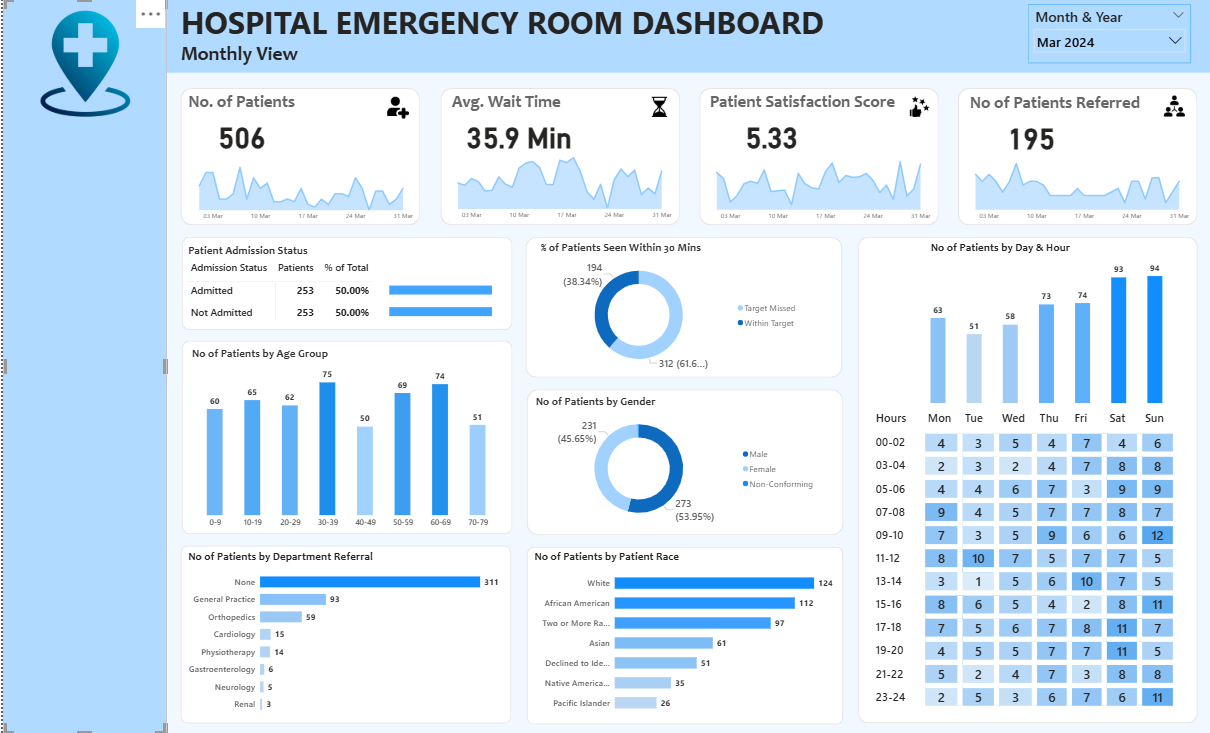

What the dashboard file says about the page in this screenshot:
{"tool":"powerbi","page":{"name":"Monthly View","canvas":[2300,1400],"ordinal":0},"visuals":[{"type":"shape","box":[338.5,171.3,455.5,261.2],"z":0},{"type":"shape","box":[1324.7,171.3,455.5,261.2],"z":1000},{"type":"shape","box":[0,0,311.3,1399.9],"z":2000},{"type":"shape","box":[831.6,171.3,455.5,261.2],"z":3000},{"type":"card","fields":{"Values":["Hospital ER_Hospital ER.No of Patients"]},"box":[374,225.7,160.9,66.9],"z":4000},{"type":"card","fields":{"Values":["Hospital ER_Hospital ER.Avg Wait Time"]},"box":[869.2,225.7,223.6,66.9],"z":5000},{"type":"card","fields":{"Values":["Avg(Hospital ER_Hospital ER.Patient Satisfaction Score)"]},"box":[1381.4,225.6,160.9,66.9],"z":6000},{"type":"shape","box":[1817.8,171.3,455.5,261.2],"z":7000},{"type":"card","fields":{"Values":["Hospital ER_Hospital ER.Measure"]},"box":[1876.7,227.6,160.9,66.9],"z":8000},{"type":"shape","box":[311.3,0,1989.1,142.1],"z":9000},{"type":"slicer","fields":{"Values":["Calendar Table.Month & Year"]},"box":[1950.8,12.2,309.8,112.1],"z":10000},{"type":"textbox","box":[339.2,171.3,227.8,56.5],"z":11000},{"type":"textbox","box":[841.3,171.3,231.1,56.5],"z":12000},{"type":"textbox","box":[1331.2,172,377.5,55.8],"z":13000},{"type":"textbox","box":[1828.2,173.4,344.8,56.4],"z":14000},{"type":"areaChart","fields":{"Category":["Calendar Table.Date.Variation.Date Hierarchy.Year","Calendar Table.Date.Variation.Date Hierarchy.Quarter","Calendar Table.Date.Variation.Date Hierarchy.Month","Calendar Table.Date.Variation.Date Hierarchy.Day"],"Y":["Hospital ER_Hospital ER.No of Patients"]},"box":[348.4,288.1,435.5,145.2],"z":15000},{"type":"areaChart","fields":{"Category":["Calendar Table.Date.Variation.Date Hierarchy.Year","Calendar Table.Date.Variation.Date Hierarchy.Quarter","Calendar Table.Date.Variation.Date Hierarchy.Month","Calendar Table.Date.Variation.Date Hierarchy.Day"],"Y":["Avg(Hospital ER_Hospital ER.Patient Waittime)"]},"box":[842.1,285.9,435.5,145.2],"z":16000},{"type":"areaChart","fields":{"Category":["Calendar Table.Date.Variation.Date Hierarchy.Year","Calendar Table.Date.Variation.Date Hierarchy.Quarter","Calendar Table.Date.Variation.Date Hierarchy.Month","Calendar Table.Date.Variation.Date Hierarchy.Day"],"Y":["Avg(Hospital ER_Hospital ER.Patient Satisfaction Score)"]},"box":[1333.4,290.4,435.5,142.9],"z":17000},{"type":"areaChart","fields":{"Category":["Calendar Table.Date.Variation.Date Hierarchy.Year","Calendar Table.Date.Variation.Date Hierarchy.Quarter","Calendar Table.Date.Variation.Date Hierarchy.Month","Calendar Table.Date.Variation.Date Hierarchy.Day"],"Y":["Hospital ER_Hospital ER.Measure"]},"box":[1827.1,288.1,435.5,145.2],"z":18000},{"type":"textbox","box":[331.7,0,1281,88.9],"z":19000},{"type":"image","box":[1222.3,183.9,52.2,48.1],"z":20000},{"type":"image","box":[724.8,183.1,52.8,51.2],"z":21000},{"type":"image","box":[2198,181.8,62.7,50],"z":22000},{"type":"image","box":[1713.3,179.7,58.5,52.2],"z":23000},{"type":"shape","box":[338.9,455,629.1,177.3],"z":24000},{"type":"shape","box":[994.7,455,602.5,268.3],"z":25000},{"type":"shape","box":[1626.9,455,646.4,925.6],"z":26000},{"type":"shape","box":[996.2,743.7,602.5,277.7],"z":27000},{"type":"donutChart","title":"% of Patients Seen Within 30 Mins","fields":{"Y":["Hospital ER_Hospital ER.No of Patients"],"Category":["Hospital ER_Hospital ER.Waittime Status"]},"box":[1016.6,461,504.4,257.6],"z":28000},{"type":"donutChart","title":"No of Patients by Gender","fields":{"Y":["Hospital ER_Hospital ER.No of Patients"],"Category":["Hospital ER_Hospital ER.Full Gender"]},"box":[1007.2,753.1,547.5,257.3],"z":29000},{"type":"shape","box":[338.9,652.7,629.1,368.7],"z":30000},{"type":"pivotTable","title":"Patient Admission Status","fields":{"Rows":["Hospital ER_Hospital ER.Admission Status"],"Values":["Hospital ER_Hospital ER.No of Patients1","Hospital ER_Hospital ER.No of Patients"]},"box":[347.9,465.5,610,158.3],"z":31000},{"type":"barChart","fields":{"Category":["Hospital ER_Hospital ER.Admission Status"],"Y":["Hospital ER_Hospital ER.No of Patients"]},"box":[729.5,514.6,241.6,120.8],"z":32000},{"type":"clusteredColumnChart","fields":{"Category":["Hospital ER_Hospital ER.Age Group"],"Y":["Hospital ER_Hospital ER.No of Patients"]},"box":[354.6,662.7,599.3,354.6],"z":33000},{"type":"shape","box":[337.3,1041.7,629.1,338.9],"z":34000},{"type":"clusteredBarChart","fields":{"Category":["Hospital ER_Hospital ER.Department Referral"],"Y":["Hospital ER_Hospital ER.No of Patients"]},"box":[348.3,1049.6,602.5,324.8],"z":35000},{"type":"shape","box":[996.5,1043,602.2,338.4],"z":36000},{"type":"clusteredBarChart","fields":{"Y":["Hospital ER_Hospital ER.No of Patients"],"Category":["Hospital ER_Hospital ER.Patient Race"]},"box":[1005.8,1049.2,578.9,324.4],"z":37000},{"type":"pivotTable","fields":{"Columns":["Calendar Table.Day Name"],"Rows":["Hospital ER_Hospital ER.Waittime Interval"],"Values":["Hospital ER_Hospital ER.No of Patients"]},"box":[1649.4,776.5,606.9,583.6],"z":38000},{"type":"clusteredColumnChart","title":"No of Patients by Day & Hour","fields":{"Category":["Calendar Table.Day Name"],"Y":["Hospital ER_Hospital ER.No of Patients"]},"box":[1758.7,461.3,453.4,315.3],"z":39000},{"type":"textbox","box":[333.7,79.2,411.3,59],"z":40000},{"type":"textbox","box":[24.2,409.1,99.9,48.3],"z":42000},{"type":"textbox","box":[77.3,1261.1,146.6,37],"z":43000},{"type":"image","box":[46.9,17.9,218.9,212.2],"z":50000}]}

Visuals, with their boxes on the page's 2300x1400 design canvas (x1, y1, x2, y2). These are canvas units, not pixel positions in the 1210x733 screenshot, which may show the page scaled, cropped or inside an application window:
shape: (left=338, top=171, right=794, bottom=432)
shape: (left=1325, top=171, right=1780, bottom=432)
shape: (left=0, top=0, right=311, bottom=1400)
shape: (left=832, top=171, right=1287, bottom=432)
card - Hospital ER_Hospital ER.No of Patients: (left=374, top=226, right=535, bottom=293)
card - Hospital ER_Hospital ER.Avg Wait Time: (left=869, top=226, right=1093, bottom=293)
card - Avg(Hospital ER_Hospital ER.Patient Satisfaction Score): (left=1381, top=226, right=1542, bottom=292)
shape: (left=1818, top=171, right=2273, bottom=432)
card - Hospital ER_Hospital ER.Measure: (left=1877, top=228, right=2038, bottom=294)
shape: (left=311, top=0, right=2300, bottom=142)
slicer - Calendar Table.Month & Year: (left=1951, top=12, right=2261, bottom=124)
textbox: (left=339, top=171, right=567, bottom=228)
textbox: (left=841, top=171, right=1072, bottom=228)
textbox: (left=1331, top=172, right=1709, bottom=228)
textbox: (left=1828, top=173, right=2173, bottom=230)
areaChart - Calendar Table.Date.Variation.Date Hierarchy.Year x Calendar Table.Date.Variation.Date Hierarchy.Quarter: (left=348, top=288, right=784, bottom=433)
areaChart - Calendar Table.Date.Variation.Date Hierarchy.Year x Calendar Table.Date.Variation.Date Hierarchy.Quarter: (left=842, top=286, right=1278, bottom=431)
areaChart - Calendar Table.Date.Variation.Date Hierarchy.Year x Calendar Table.Date.Variation.Date Hierarchy.Quarter: (left=1333, top=290, right=1769, bottom=433)
areaChart - Calendar Table.Date.Variation.Date Hierarchy.Year x Calendar Table.Date.Variation.Date Hierarchy.Quarter: (left=1827, top=288, right=2263, bottom=433)
textbox: (left=332, top=0, right=1613, bottom=89)
image: (left=1222, top=184, right=1274, bottom=232)
image: (left=725, top=183, right=778, bottom=234)
image: (left=2198, top=182, right=2261, bottom=232)
image: (left=1713, top=180, right=1772, bottom=232)
shape: (left=339, top=455, right=968, bottom=632)
shape: (left=995, top=455, right=1597, bottom=723)
shape: (left=1627, top=455, right=2273, bottom=1381)
shape: (left=996, top=744, right=1599, bottom=1021)
"% of Patients Seen Within 30 Mins" donutChart: (left=1017, top=461, right=1521, bottom=719)
"No of Patients by Gender" donutChart: (left=1007, top=753, right=1555, bottom=1010)
shape: (left=339, top=653, right=968, bottom=1021)
"Patient Admission Status" pivotTable: (left=348, top=466, right=958, bottom=624)
barChart - Hospital ER_Hospital ER.Admission Status x Hospital ER_Hospital ER.No of Patients: (left=730, top=515, right=971, bottom=635)
clusteredColumnChart - Hospital ER_Hospital ER.Age Group x Hospital ER_Hospital ER.No of Patients: (left=355, top=663, right=954, bottom=1017)
shape: (left=337, top=1042, right=966, bottom=1381)
clusteredBarChart - Hospital ER_Hospital ER.Department Referral x Hospital ER_Hospital ER.No of Patients: (left=348, top=1050, right=951, bottom=1374)
shape: (left=996, top=1043, right=1599, bottom=1381)
clusteredBarChart - Hospital ER_Hospital ER.No of Patients x Hospital ER_Hospital ER.Patient Race: (left=1006, top=1049, right=1585, bottom=1374)
pivotTable - Calendar Table.Day Name x Hospital ER_Hospital ER.Waittime Interval: (left=1649, top=776, right=2256, bottom=1360)
"No of Patients by Day & Hour" clusteredColumnChart: (left=1759, top=461, right=2212, bottom=777)
textbox: (left=334, top=79, right=745, bottom=138)
textbox: (left=24, top=409, right=124, bottom=457)
textbox: (left=77, top=1261, right=224, bottom=1298)
image: (left=47, top=18, right=266, bottom=230)
